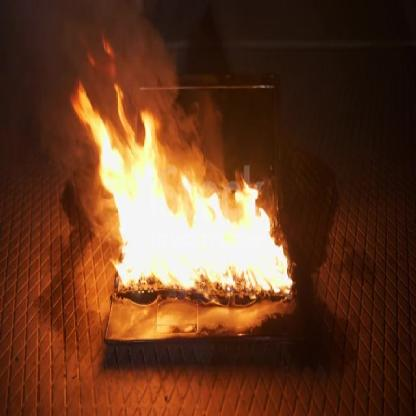fire: (66, 83, 291, 303)
smoke: (0, 0, 231, 289)
